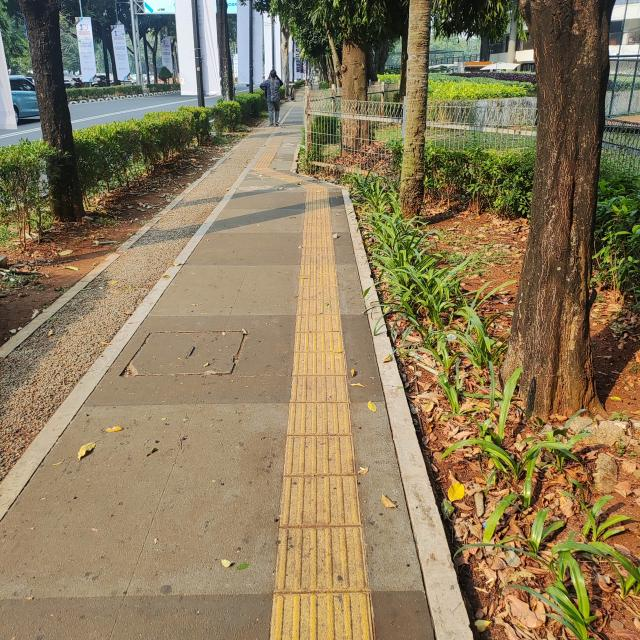lurus: (288, 188, 362, 640)
